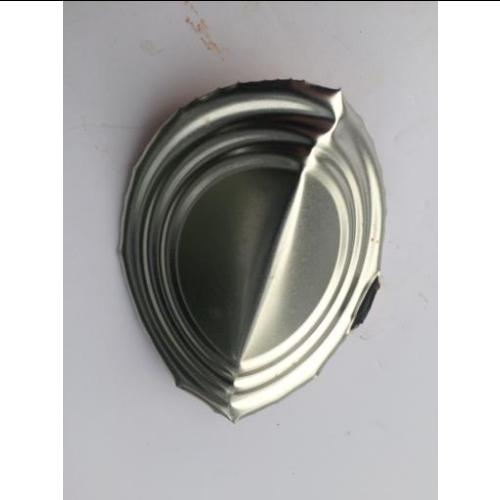metal: (124, 81, 384, 417)
